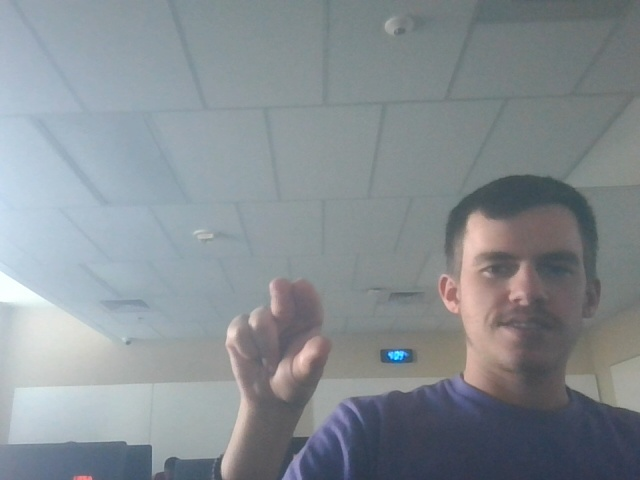no: (216, 268, 346, 414)
